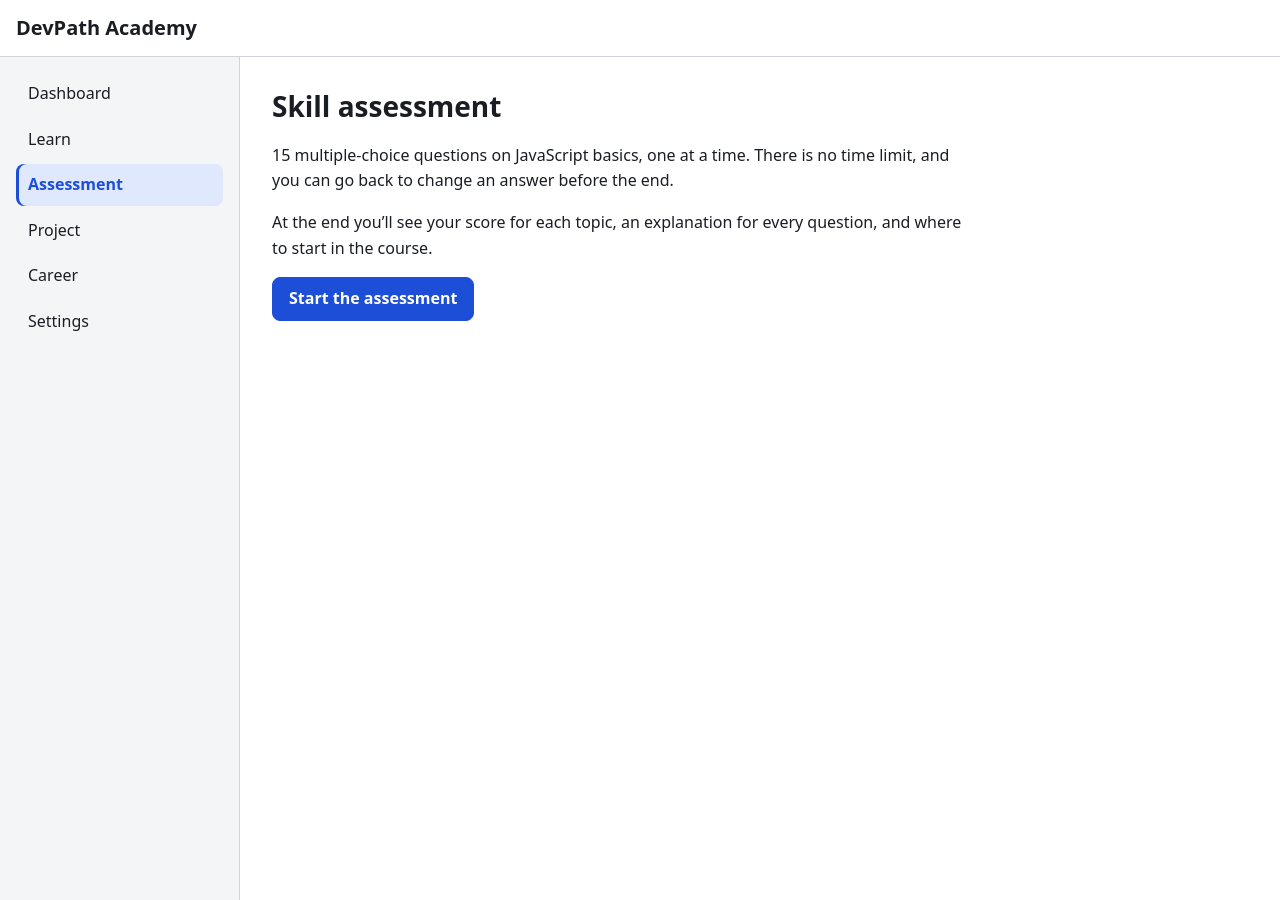
Test: skill assessment (/assessment) › shows one question at a time, and moves focus to it
The image size is (1280, 900).
Click the button "Start the assessment" at coordinates (373, 299), box [272,277,474,321]
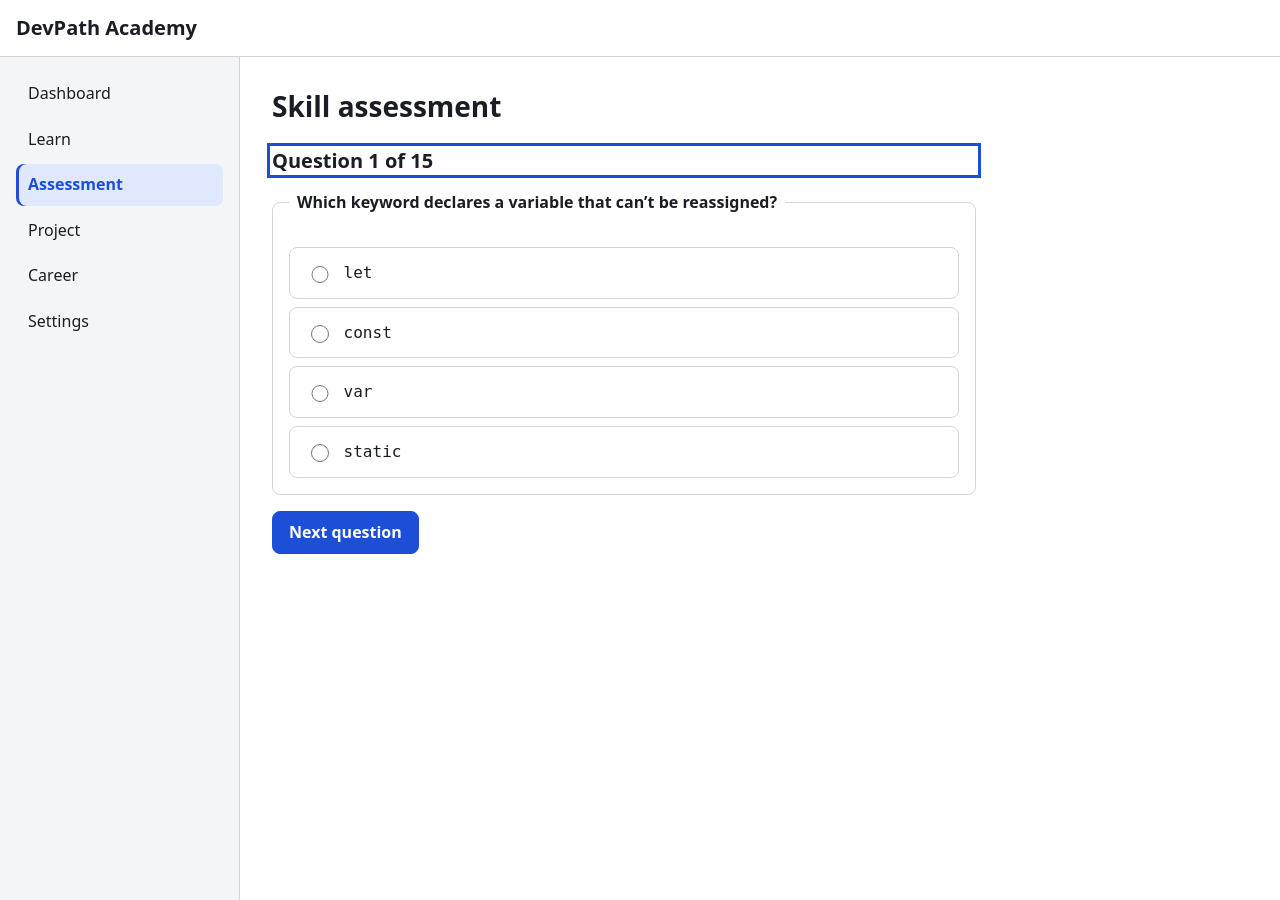
Expected: the number of radio buttons is 4, [311,266,329,283]; [311,325,329,343]; [311,385,329,402]; [311,444,329,462]
